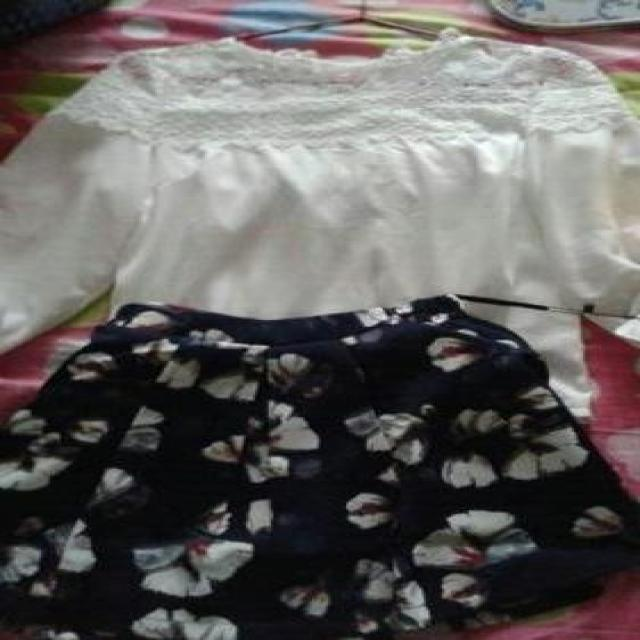long sleeve top: (2, 30, 638, 418)
skirt: (5, 295, 638, 639)
